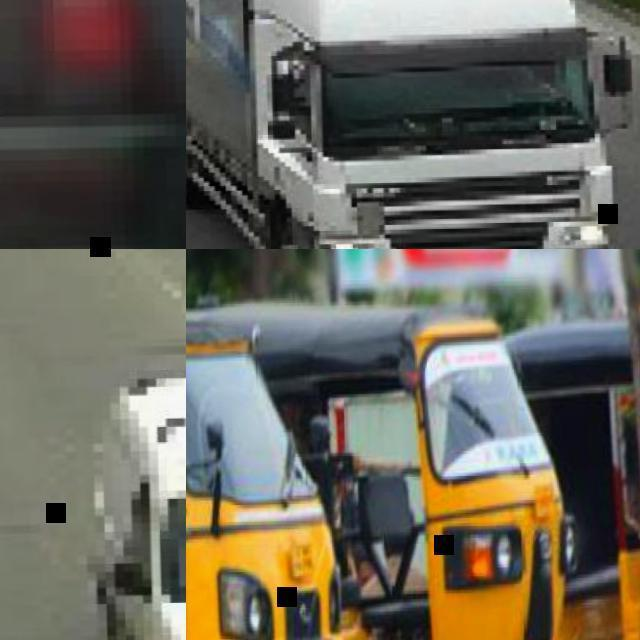car: (225, 0, 610, 380), (93, 341, 347, 639)
